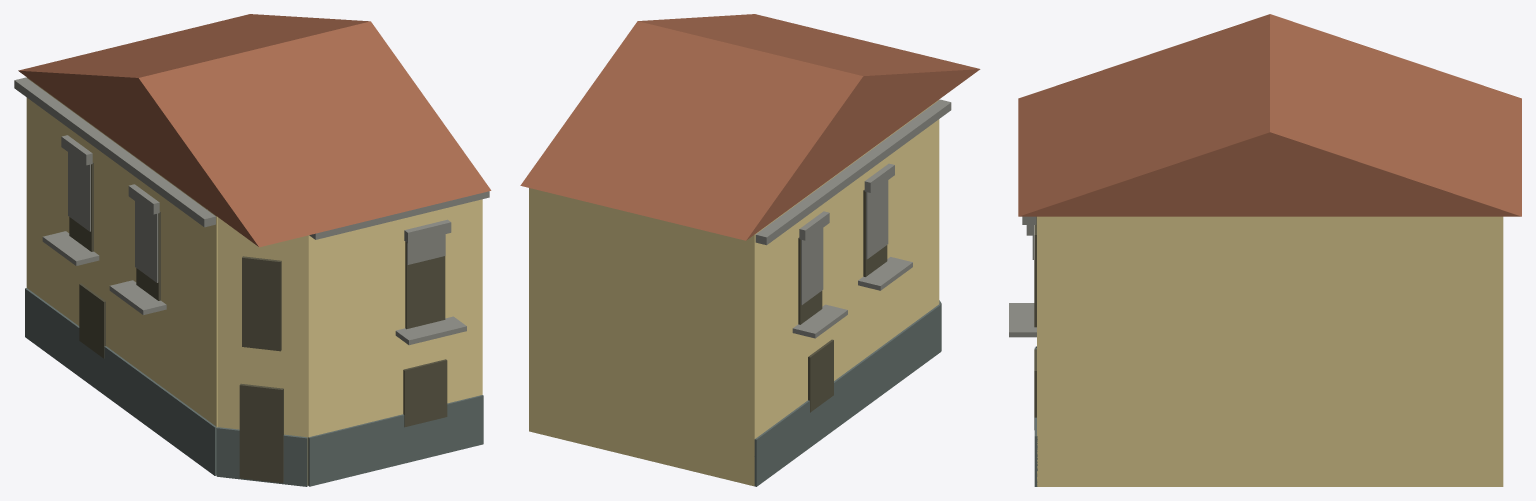
File: SM_Esquina_v3_CalAmarilla_LOD1.fbx
3 renders of one model, left to right at view 1: azimuth 30°, elevation 25°; view 2: azimuth 150°, elevation 25°; view 3: azimuth 270°, elevation 25°, orthographic. The views are drawn at different scales.
Visible parts, largest first — view 1: SM_pueblo_valenciano_v3_LOD1; view 2: SM_pueblo_valenciano_v3_LOD1; view 3: SM_pueblo_valenciano_v3_LOD1.
Part boxes in pixels (<box>): SM_pueblo_valenciano_v3_LOD1: <box>14,14,491,486</box>; SM_pueblo_valenciano_v3_LOD1: <box>520,14,980,486</box>; SM_pueblo_valenciano_v3_LOD1: <box>1009,14,1521,486</box>.
Size of the model in its own units: 6.6 by 8.4 by 11.
